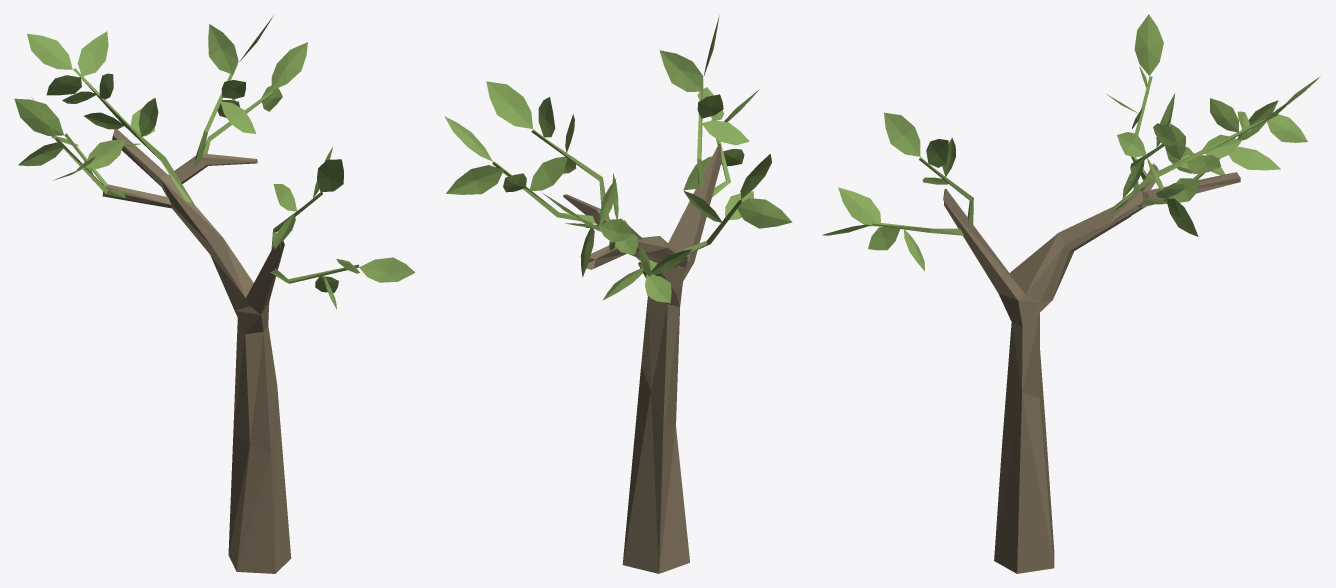
The model's file is Apple_2_4.fbx.
3 views of the same model, side by side, from view 1: azimuth 30°, elevation 25°; view 2: azimuth 150°, elevation 25°; view 3: azimuth 270°, elevation 25° (orthographic). The views are drawn at different scales.
Visible parts, largest first — view 1: Apple_2_4; view 2: Apple_2_4; view 3: Apple_2_4.
Boxes of the visible parts, left/top/right/bottom form: Apple_2_4: left=14, top=15, right=415, bottom=573; Apple_2_4: left=444, top=15, right=792, bottom=573; Apple_2_4: left=822, top=14, right=1320, bottom=573.
Size of the model in its own units: 83.62 by 124 by 117.
